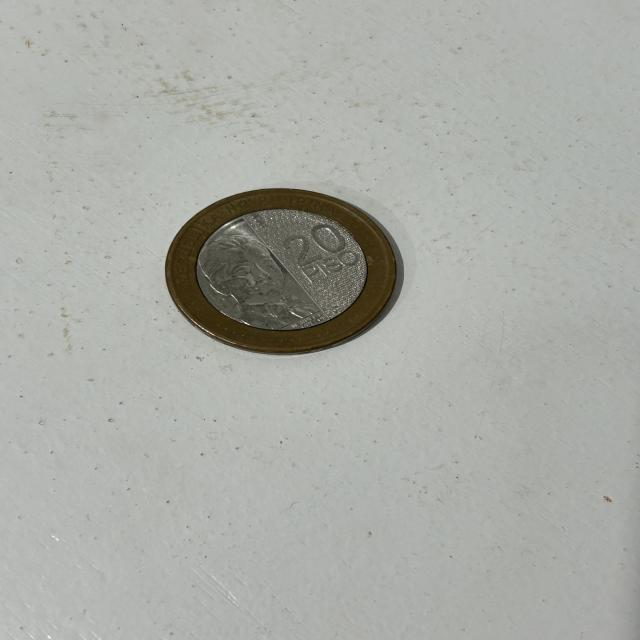20_New_Front: (280, 222, 364, 284)
